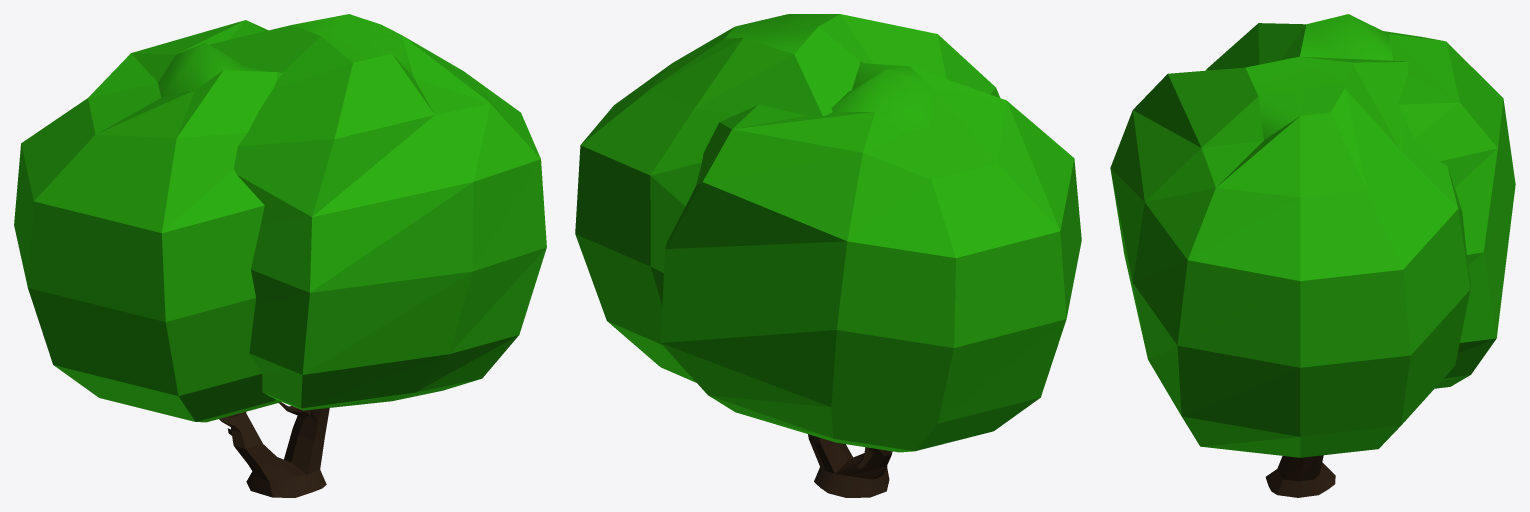
File: Tree#3.FBX
3 views of the same model, side by side, from view 1: azimuth 30°, elevation 25°; view 2: azimuth 150°, elevation 25°; view 3: azimuth 270°, elevation 25° (orthographic).
Parts seen in each view (by area): view 1: Tree 3; view 2: Tree 3; view 3: Tree 3.
Part boxes in pixels (x1,y1,x2,y2): Tree 3: (14, 14, 546, 497); Tree 3: (575, 14, 1081, 497); Tree 3: (1110, 14, 1515, 497).
Bounding box in the file's own units: 331 × 295 × 245.
